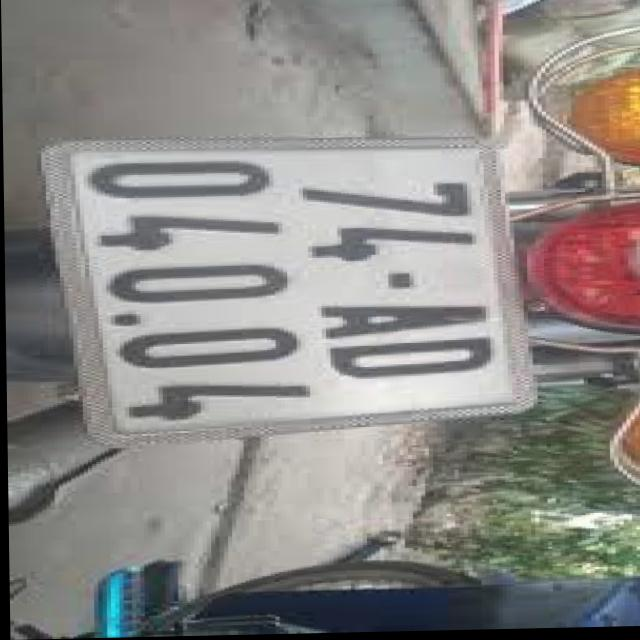a: (73, 144, 520, 433)
bien so: (96, 130, 550, 446)
